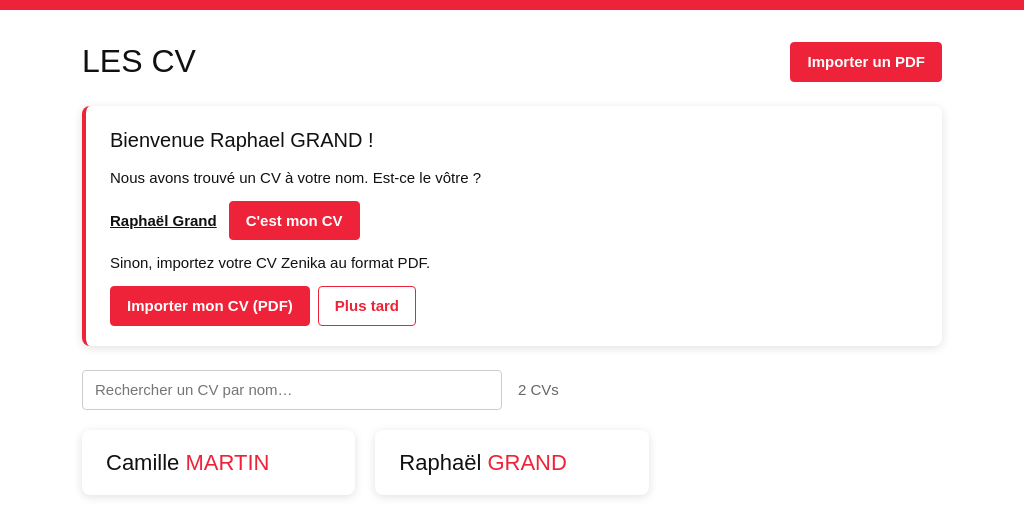
Test case: HomeView list › filters the CVs by name and keeps the search in the URL
This screenshot has width=1024, height=516.
Type "raph" into the search field with placeholder "Rechercher un CV par nom…" at (292, 390), box [82,370,502,410]
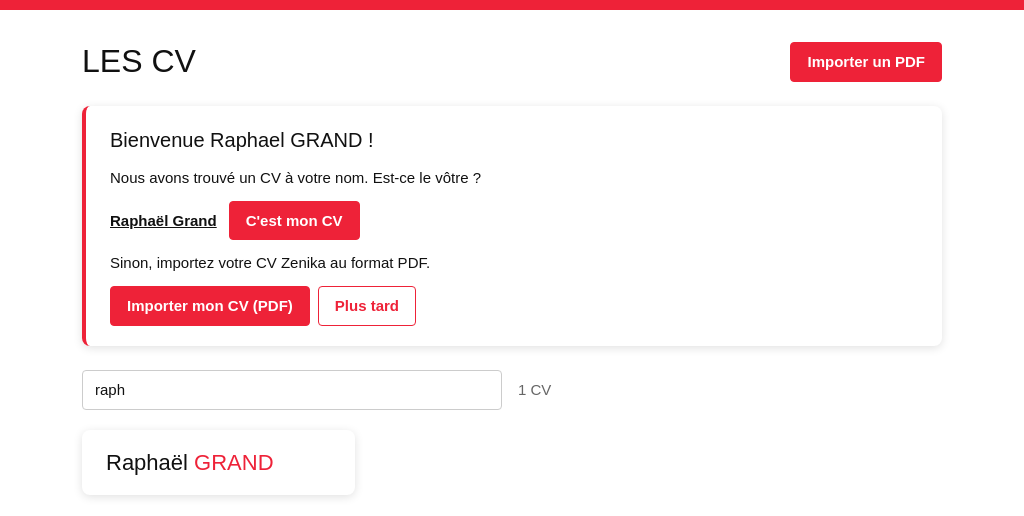
Result: the text with class "home__count" reads "1 CV" at [518,381,551,398]
Clear the search field named "Rechercher un CV par nom" at (292, 390), box [82,370,502,410]
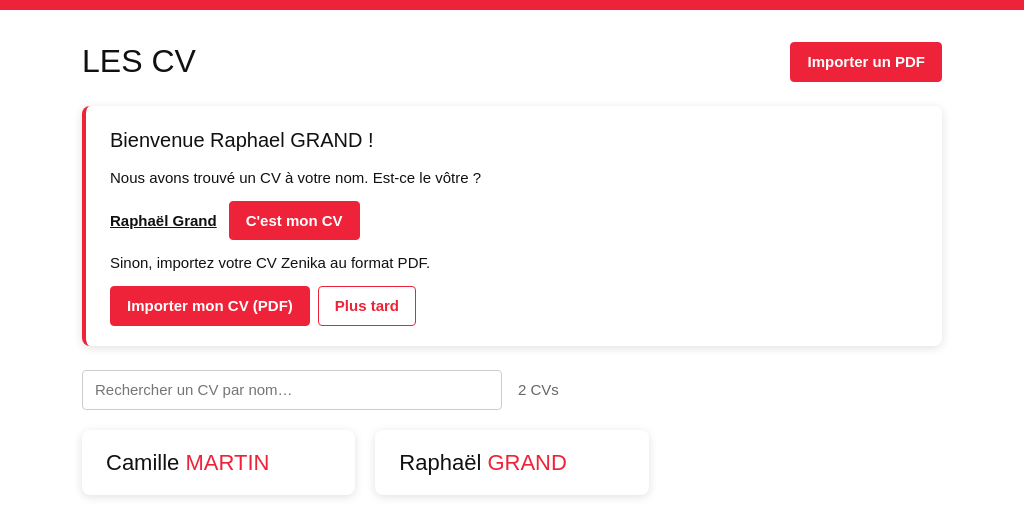
Result: the text with class "home__count" reads "2 CVs" at [518,381,559,398]
